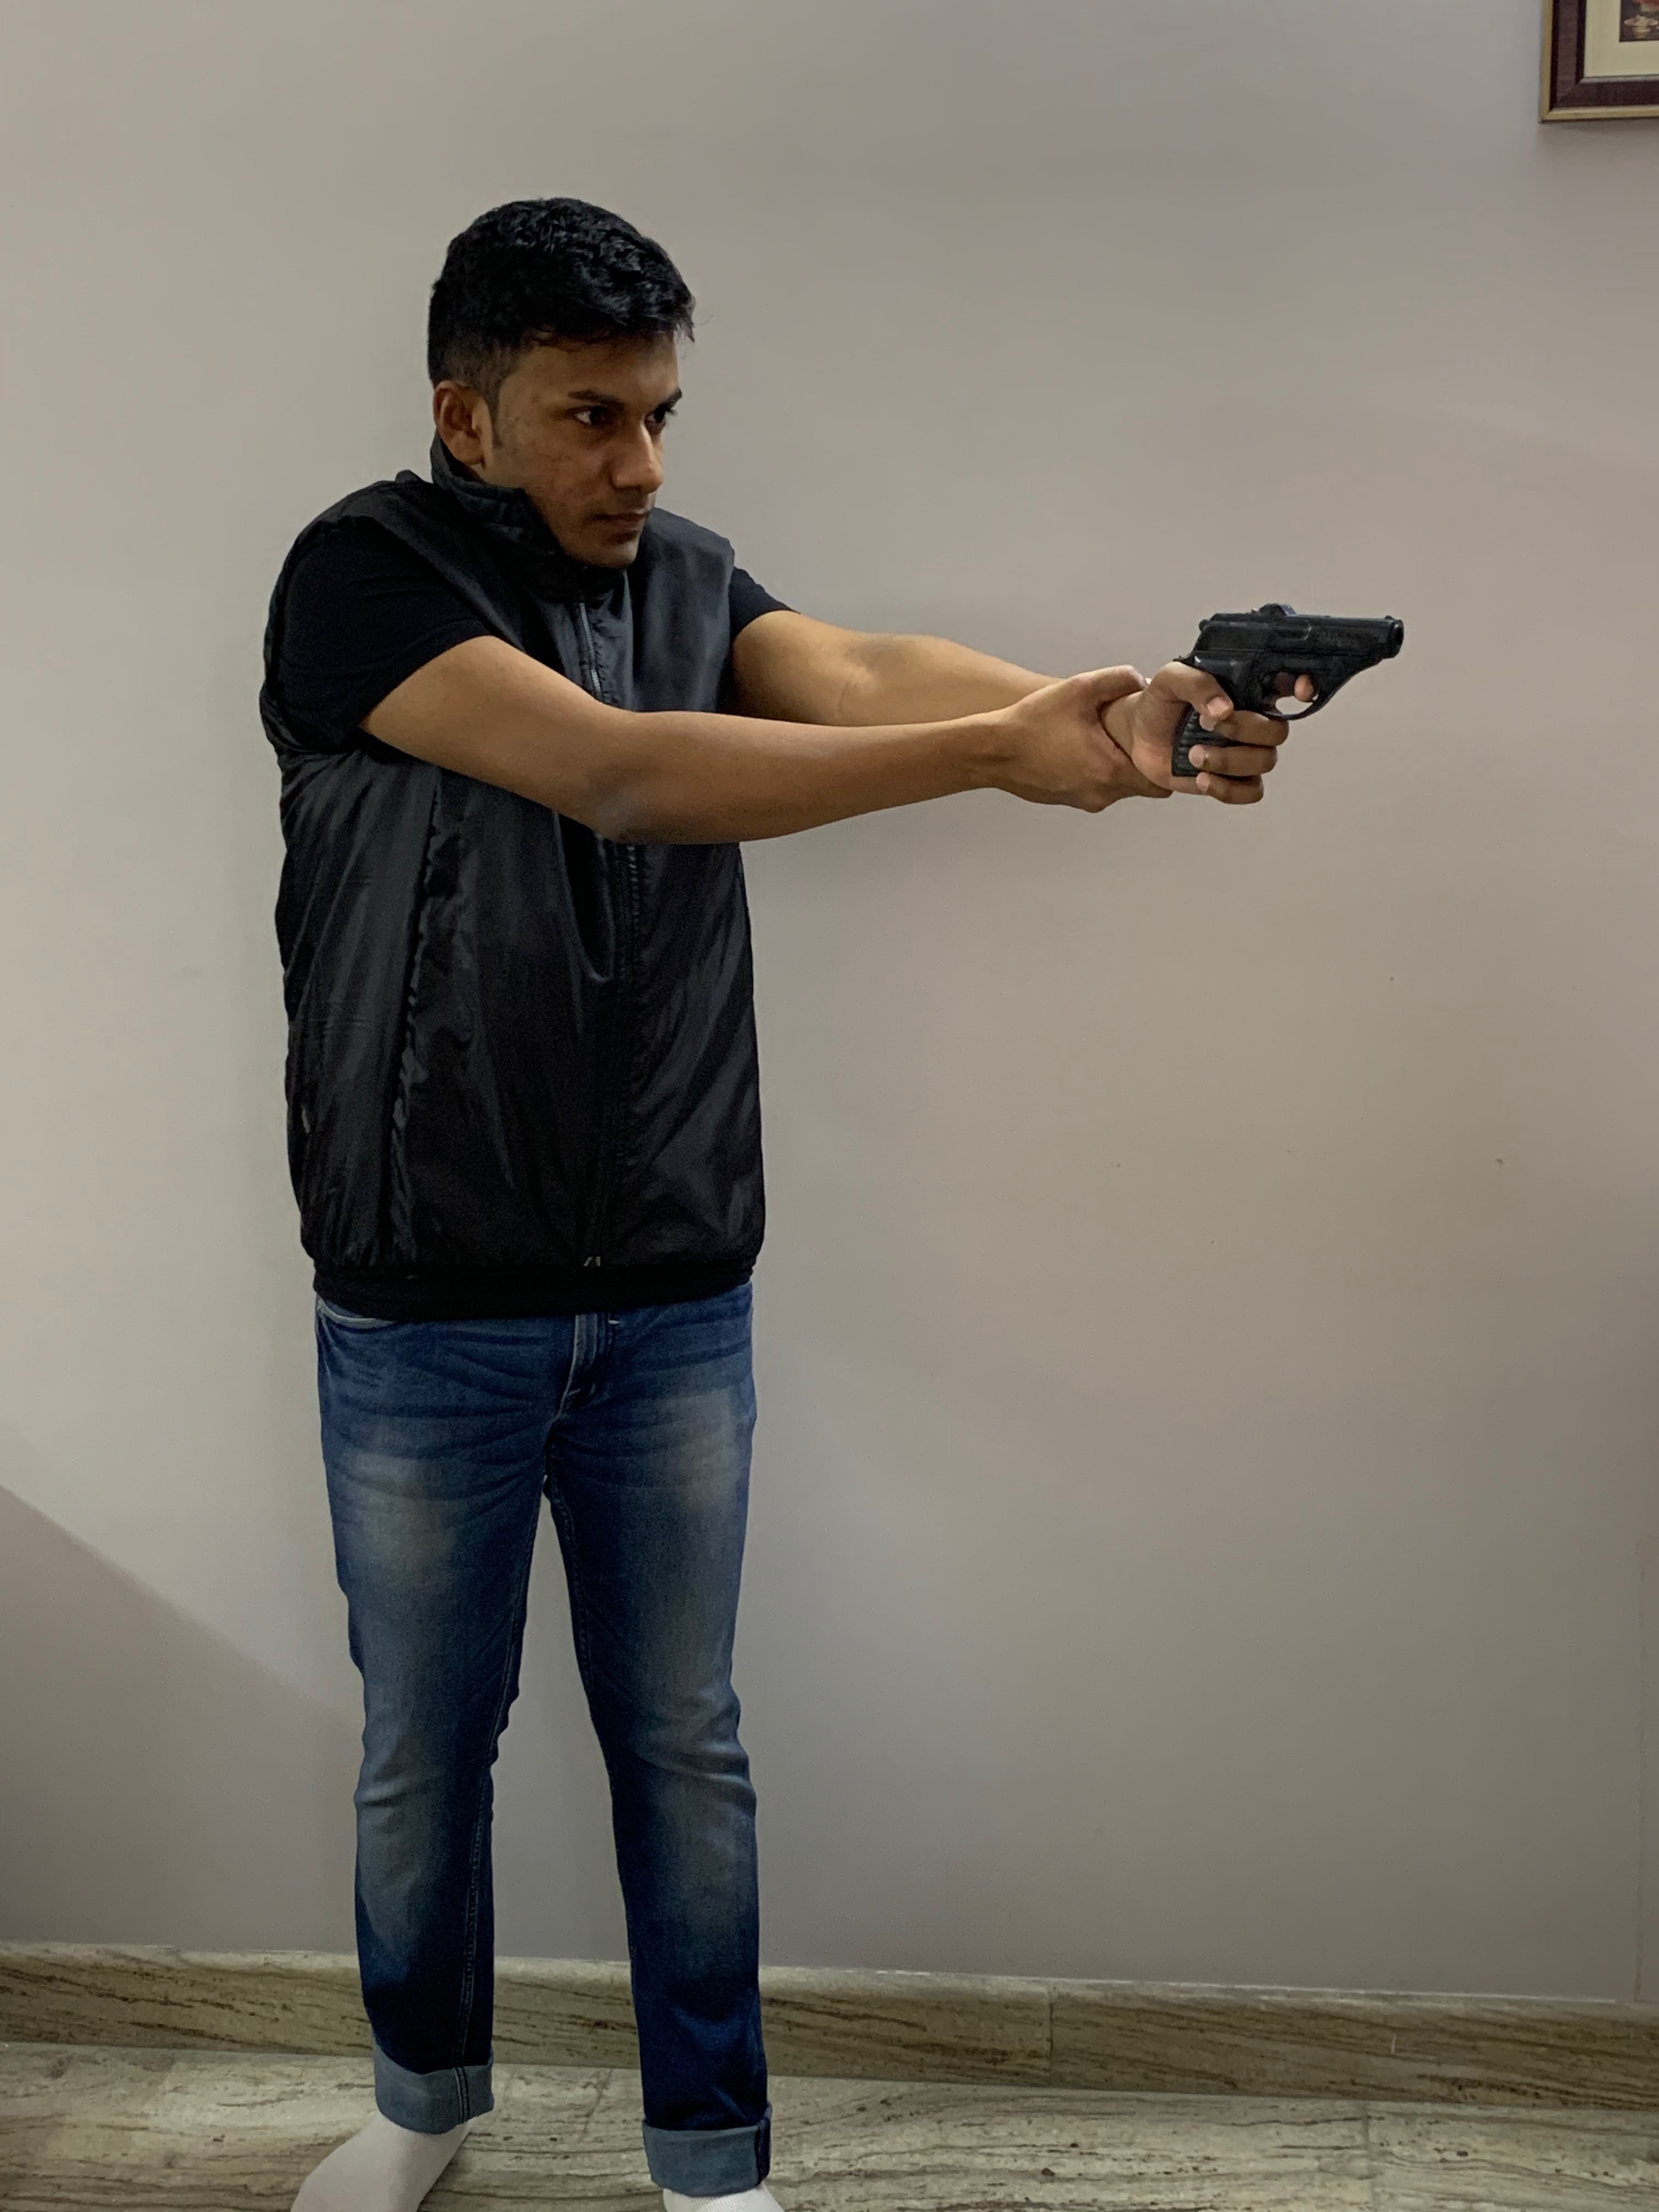gun: (1175, 597, 1408, 791)
